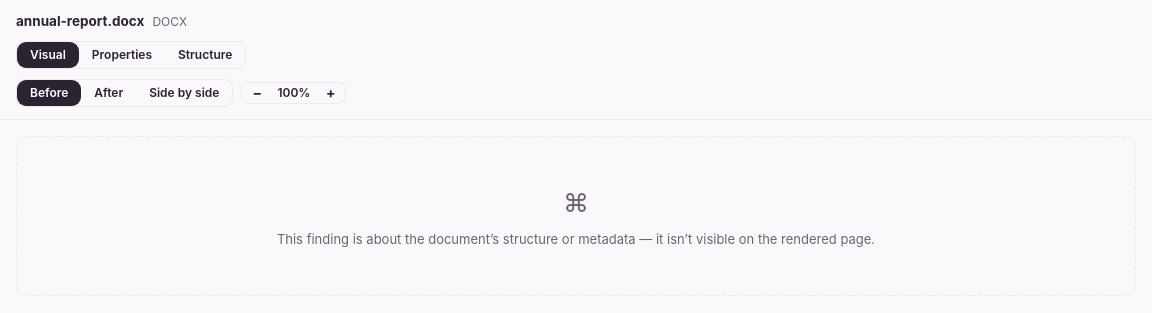
Test: RemediationPreview — adaptive view modes › a metadata finding (2.4.2 title) shows its real before→after value in Structure, not the generic note
Click the tab "Structure".
click(205, 55)  # box [165,42,245,68]
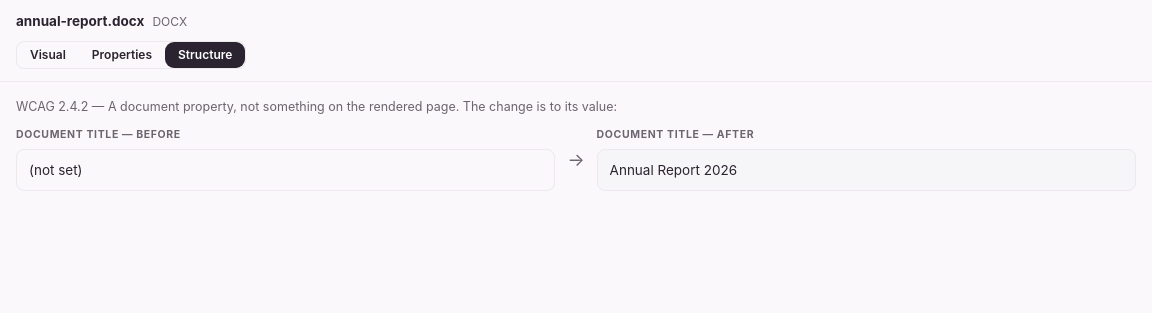
expect the text "Document title — before" is shown: met, box [16,128,181,141]
expect the text "(not set)" is shown: met, box [16,149,555,191]
expect the text "Document title — after" is shown: met, box [597,128,754,141]
